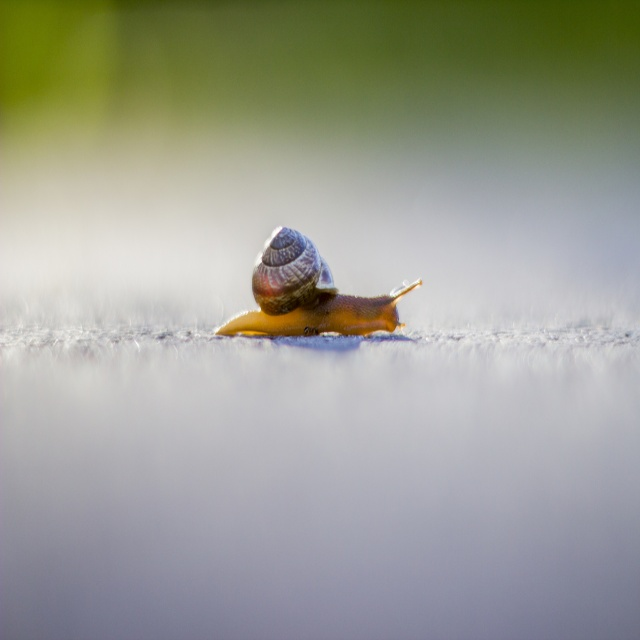Snail: (213, 222, 425, 342)
